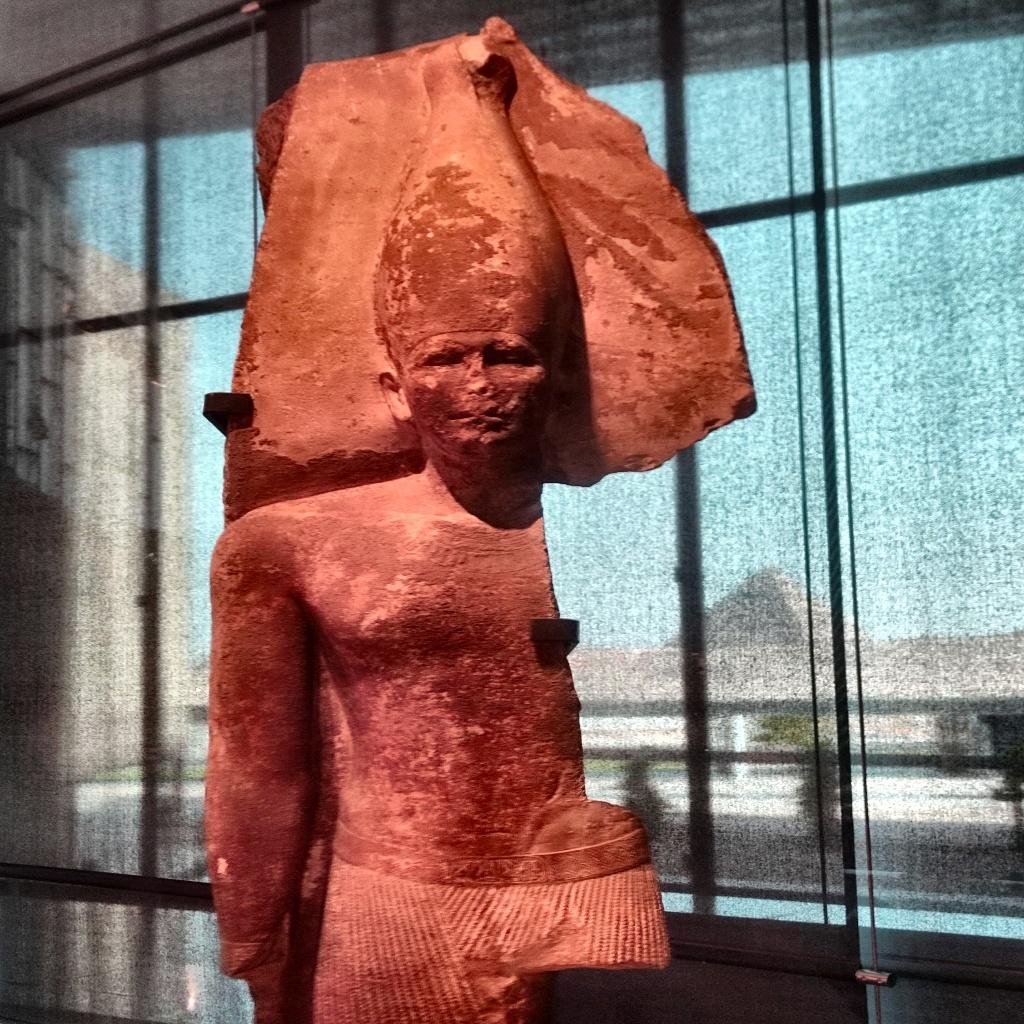Statue of Snefru: (218, 16, 760, 1020)
